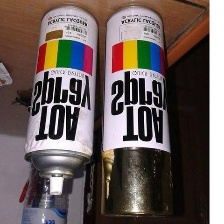aerosol_cans: (95, 1, 178, 221), (21, 0, 100, 197)
